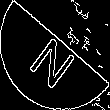N_NE: (27, 23, 83, 87)
